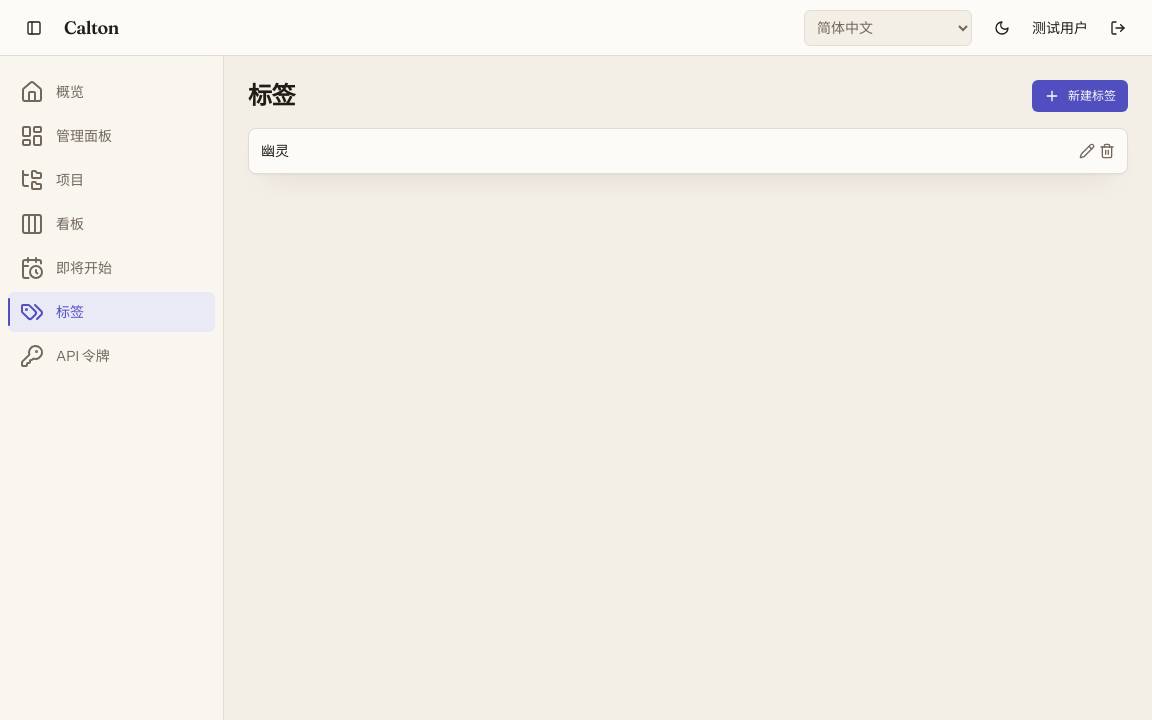
it: 写路径的错误文案（读写对"不存在"的口径相反） › ★ 404/8002 → 说"已不存在"，并提示刷新
What coordinates should you click on to do the following:
click the button with test id "^label-edit-"
I would click on:
 (1087, 151)
Its box is [1079, 143, 1095, 159].
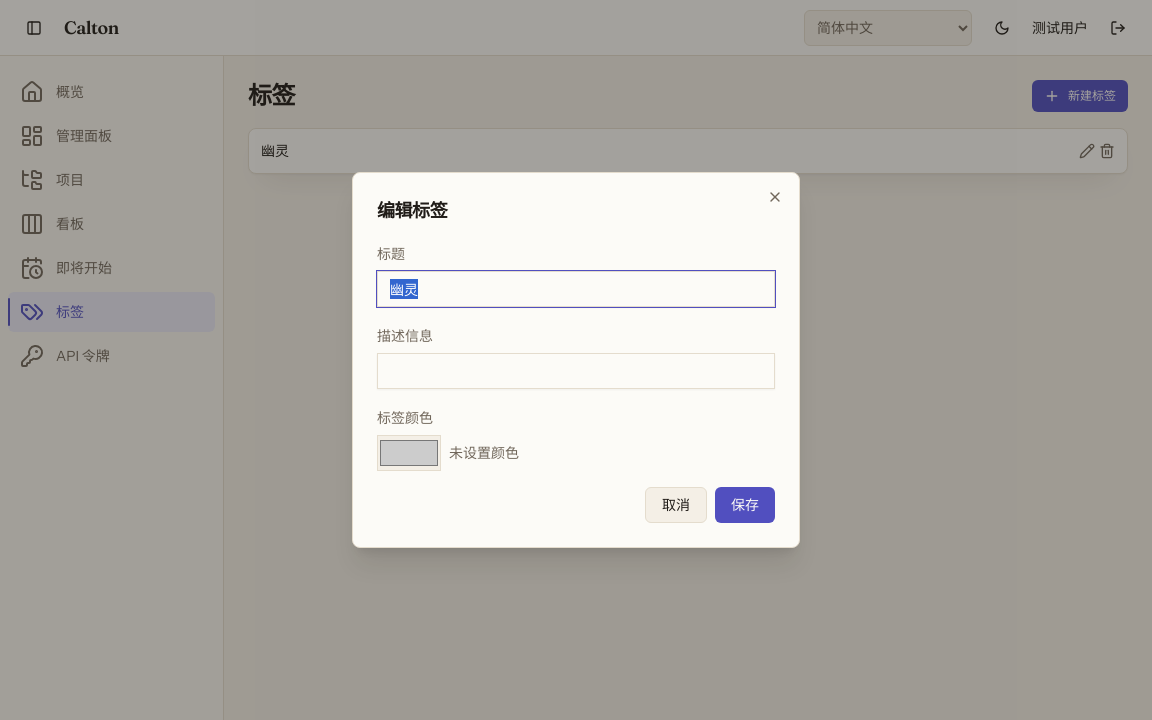
What coordinates should you click on to do the following:
click the button with test id "label-form-submit"
I would click on:
 (745, 505)
Its box is [715, 487, 775, 523].
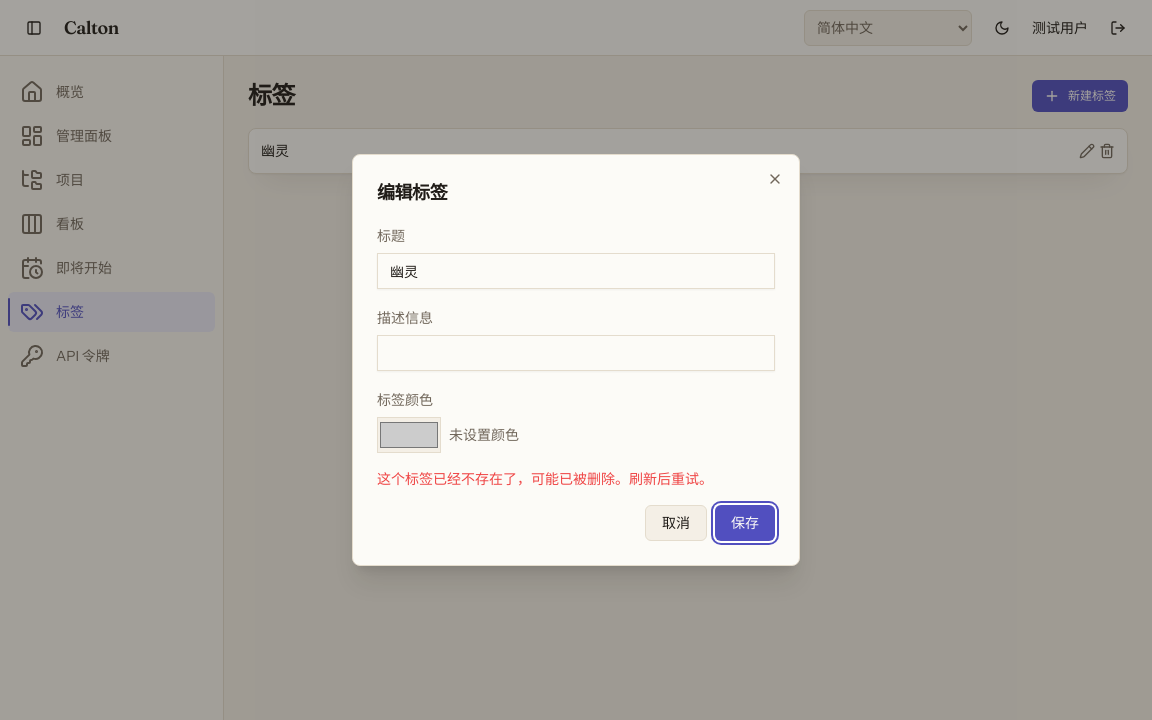
Check: the dialog is shown, box [352, 154, 800, 566]
Check: the message shows "不存在", box [377, 470, 713, 488]
